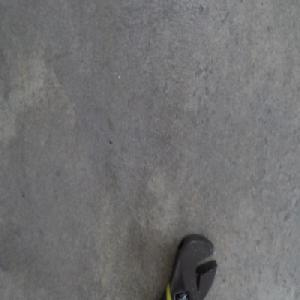AdjustableWrench: (159, 235, 219, 299)
